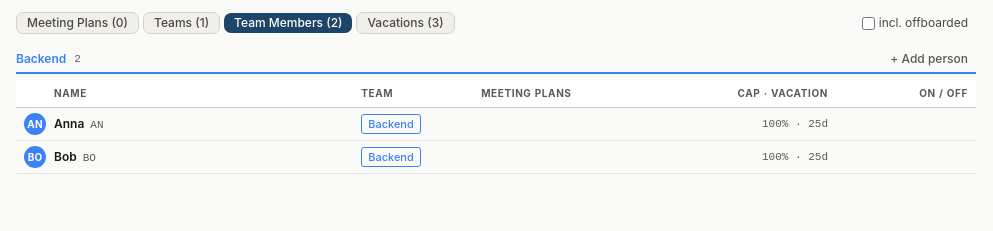
Test: Vacation filter › intersects member + year filters
Click the button "Vacations (3)": [406, 23] box [356, 12, 455, 34]
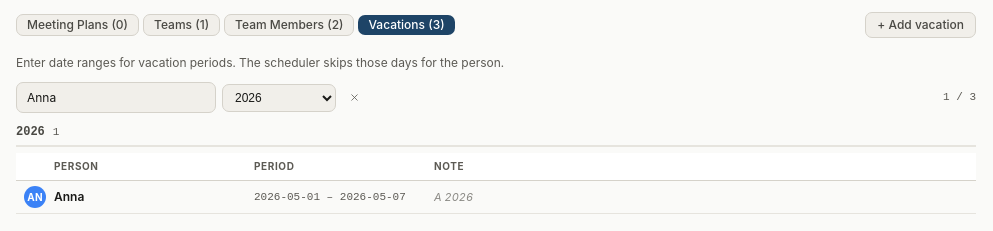
expect the text "A 2026" is shown: met, box [426, 180, 976, 214]
